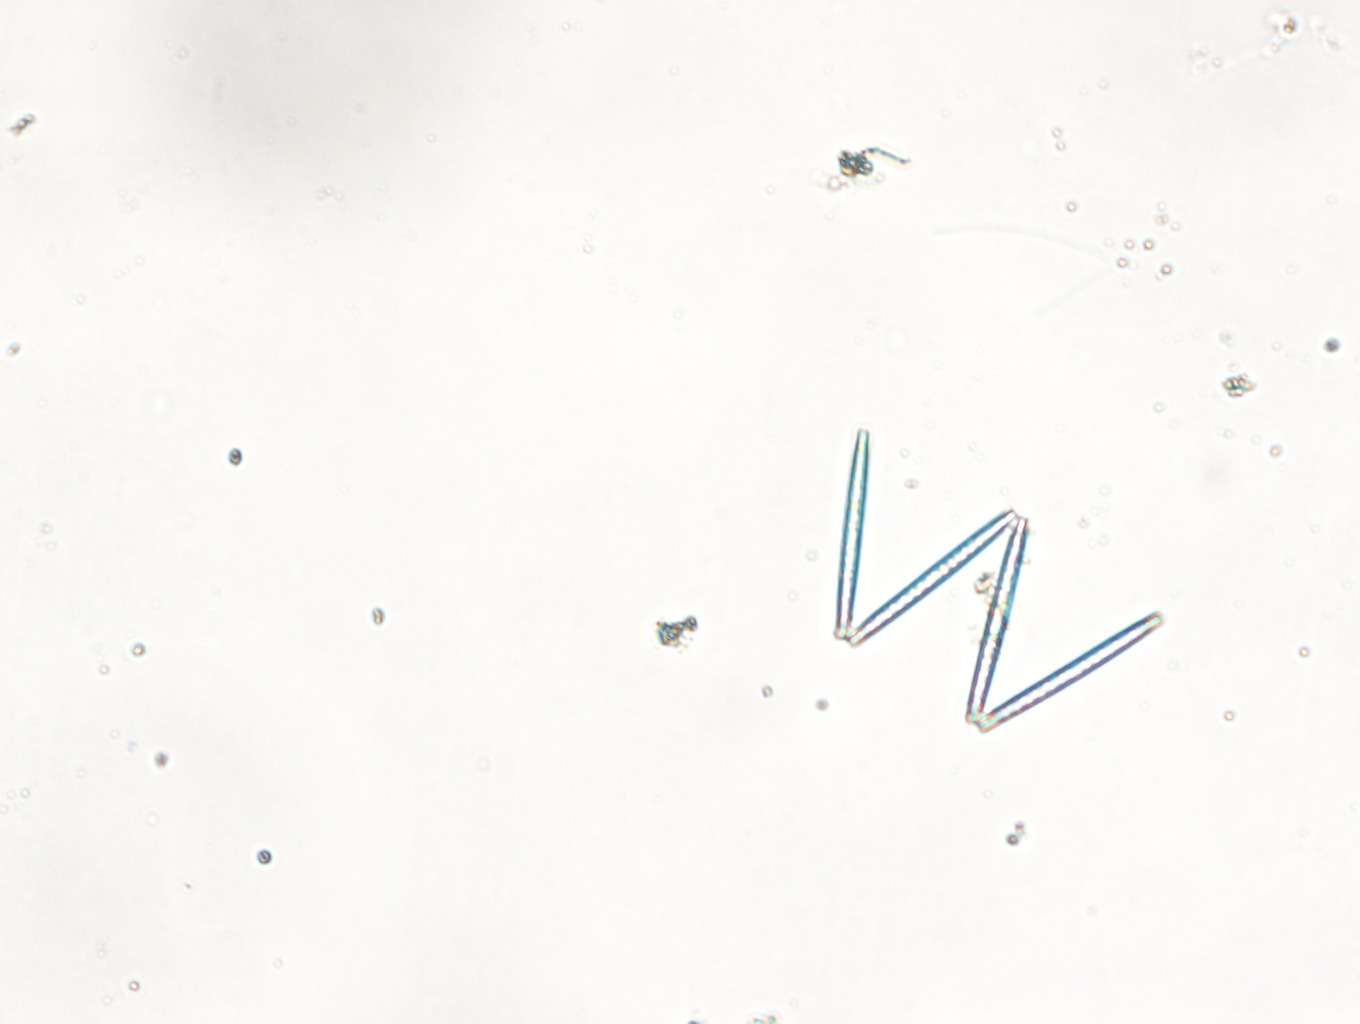thalassionema nitzschioides: (827, 425, 1168, 736)
